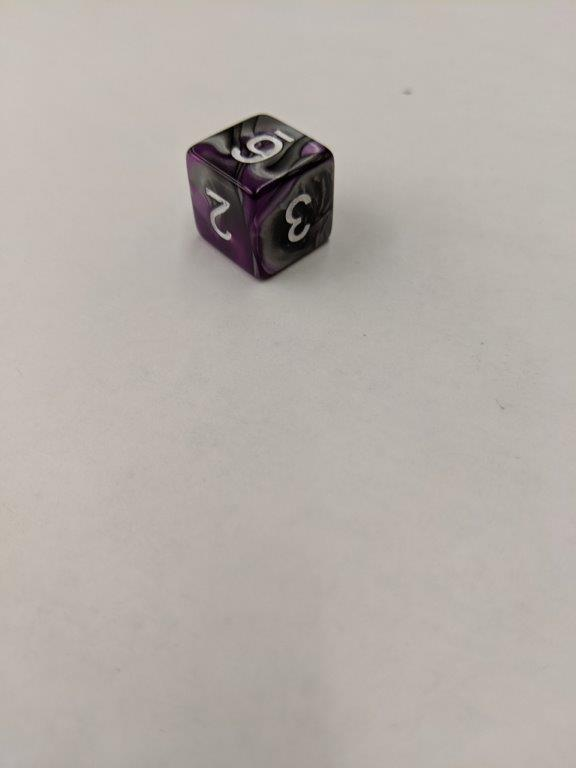d6-6: (187, 113, 336, 282)
